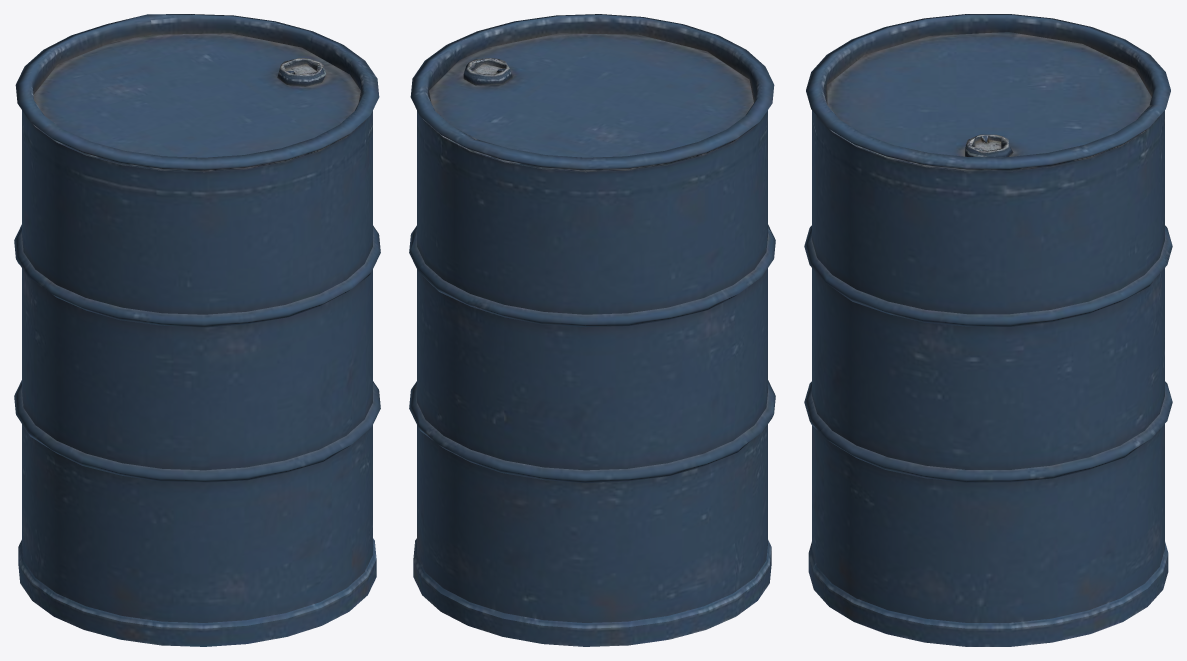
Rendered from barrel_03.glb.
The picture shows the model from 3 angles, left to right: view 1: azimuth 30°, elevation 25°; view 2: azimuth 150°, elevation 25°; view 3: azimuth 270°, elevation 25°; orthographic projection.
Parts seen in each view (by area): view 1: barrel_03; view 2: barrel_03; view 3: barrel_03.
Part boxes in pixels (<box>): barrel_03: <box>14,14,380,646</box>; barrel_03: <box>409,14,775,646</box>; barrel_03: <box>804,14,1172,646</box>.
Size of the model in its own units: 0.6339 by 0.9276 by 0.6386.
1 material, 1 textured.
